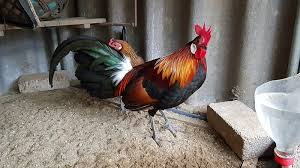Gà/Chicken: (44, 14, 218, 143)
